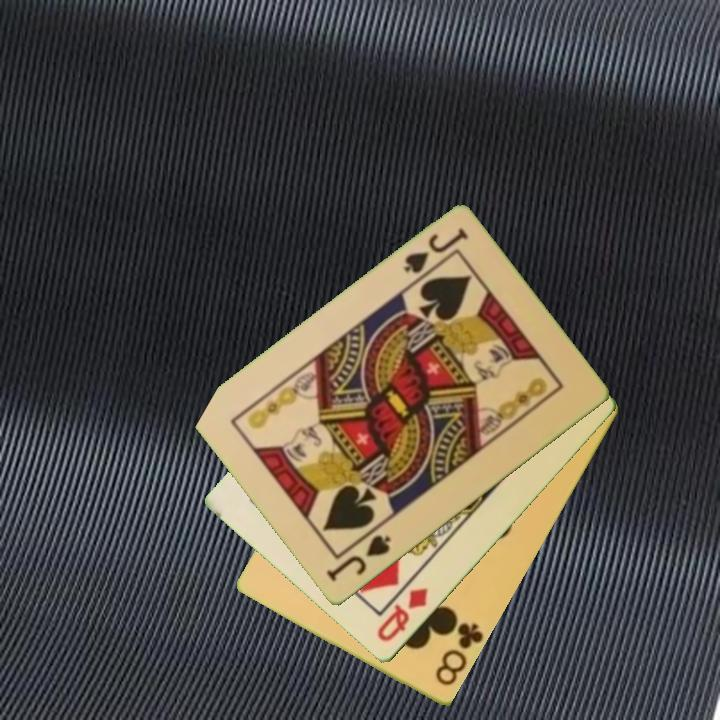8c: (432, 615, 487, 690)
Js: (322, 531, 394, 586), (399, 225, 471, 278)
Qd: (373, 584, 431, 645)
